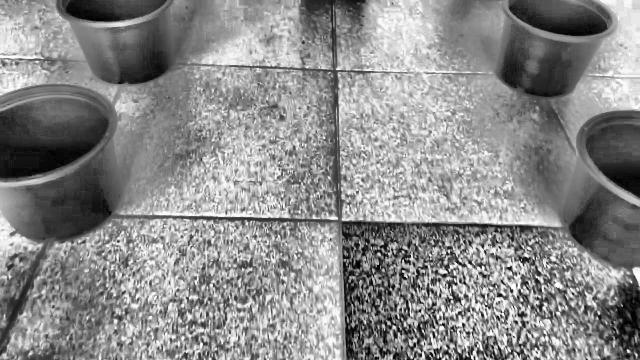pot: (0, 85, 122, 242), (562, 111, 640, 269), (494, 0, 618, 99), (54, 0, 175, 87)
